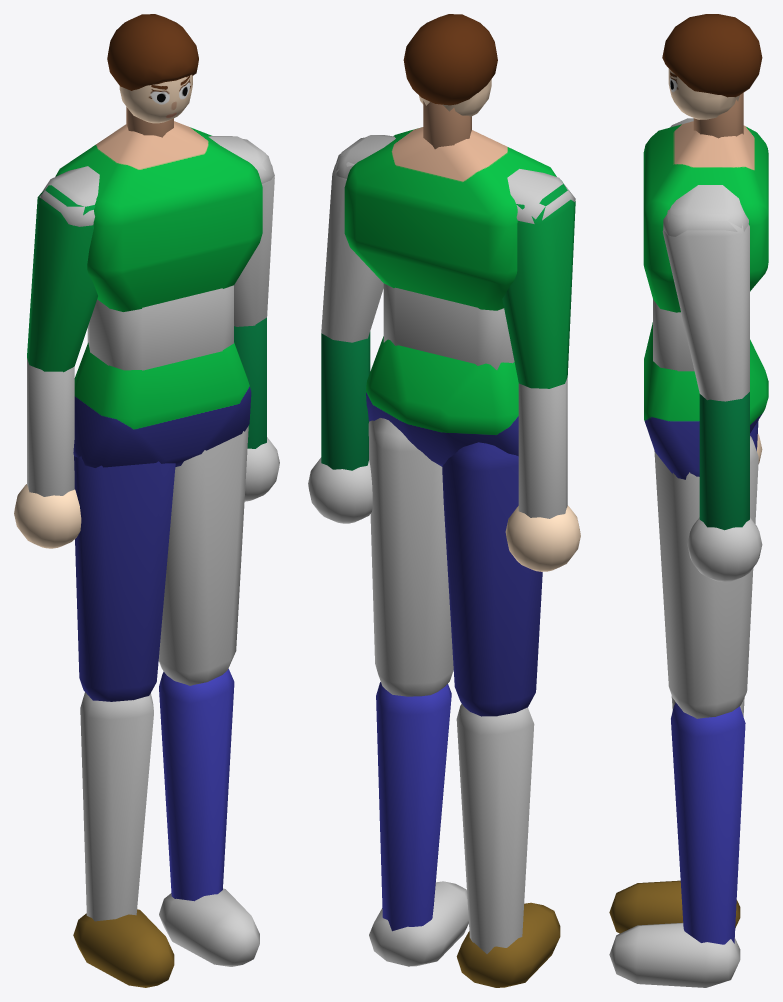
Rendered from LastLuna_Model_Player.fbx.
3 renders of one model, left to right at view 1: azimuth 30°, elevation 25°; view 2: azimuth 150°, elevation 25°; view 3: azimuth 270°, elevation 25°, orthographic. The views are drawn at different scales.
Parts seen in each view (by area): view 1: Chest, Thigh_Right, Thigh_Left, Palvis, Calf_Left, Calf_Right, UpperArm_Right, Waist, LowerArm_Right, Feet_Right, Feet_Left, Hair (+7 smaller); view 2: Chest, Thigh_Right, Thigh_Left, Calf_Right, Calf_Left, Palvis, UpperArm_Right, Waist, Hair, LowerArm_Right, LowerArm_Left, UpperArm_Left (+7 smaller); view 3: Thigh_Left, Calf_Left, Chest, UpperArm_Left, Palvis, LowerArm_Left, Feet_Left, Hair, Hand_Left, Feet_Right, Shoulder, Waist (+2 smaller).
Part boxes in pixels (<box>): Chest: <box>55,121,262,311</box>; Thigh_Right: <box>74,456,175,701</box>; Thigh_Left: <box>158,426,248,685</box>; Palvis: <box>73,342,251,467</box>; Calf_Left: <box>159,669,234,901</box>; Calf_Right: <box>80,692,153,921</box>; UpperArm_Right: <box>27,185,97,372</box>; Waist: <box>87,285,233,370</box>; LowerArm_Right: <box>27,358,74,496</box>; Feet_Right: <box>73,909,174,987</box>; Feet_Left: <box>159,888,259,966</box>; Hair: <box>107,14,198,90</box>; Chest: <box>344,127,556,310</box>; Thigh_Right: <box>442,442,542,716</box>; Thigh_Left: <box>368,418,453,696</box>; Calf_Right: <box>456,704,534,953</box>; Calf_Left: <box>376,682,451,931</box>; Palvis: <box>366,336,518,466</box>; UpperArm_Right: <box>502,180,575,388</box>; Waist: <box>383,283,514,369</box>; Hair: <box>403,14,497,105</box>; LowerArm_Right: <box>518,377,567,518</box>; LowerArm_Left: <box>321,331,370,470</box>; UpperArm_Left: <box>321,137,383,342</box>; Thigh_Left: <box>654,436,758,718</box>; Calf_Left: <box>671,702,745,944</box>; Chest: <box>643,121,768,312</box>; UpperArm_Left: <box>662,208,749,401</box>; Palvis: <box>644,322,768,479</box>; LowerArm_Left: <box>699,392,749,530</box>; Feet_Left: <box>609,922,740,987</box>; Hair: <box>662,14,762,97</box>; Hand_Left: <box>687,517,762,581</box>; Feet_Right: <box>609,880,740,933</box>; Shoulder: <box>663,118,748,236</box>; Waist: <box>653,299,694,371</box>.
Size of the model in its own units: 24 by 83.25 by 12.73.
